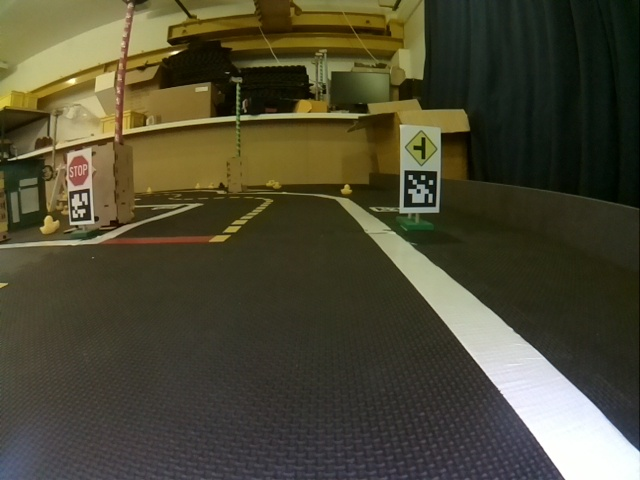Duckie: (40, 217, 59, 234), (340, 184, 351, 194), (273, 182, 281, 191), (267, 179, 275, 188)
Intersection sign: (401, 129, 439, 166)
QR code: (401, 170, 439, 212), (69, 190, 93, 223)
Stop sign: (68, 151, 92, 187)
